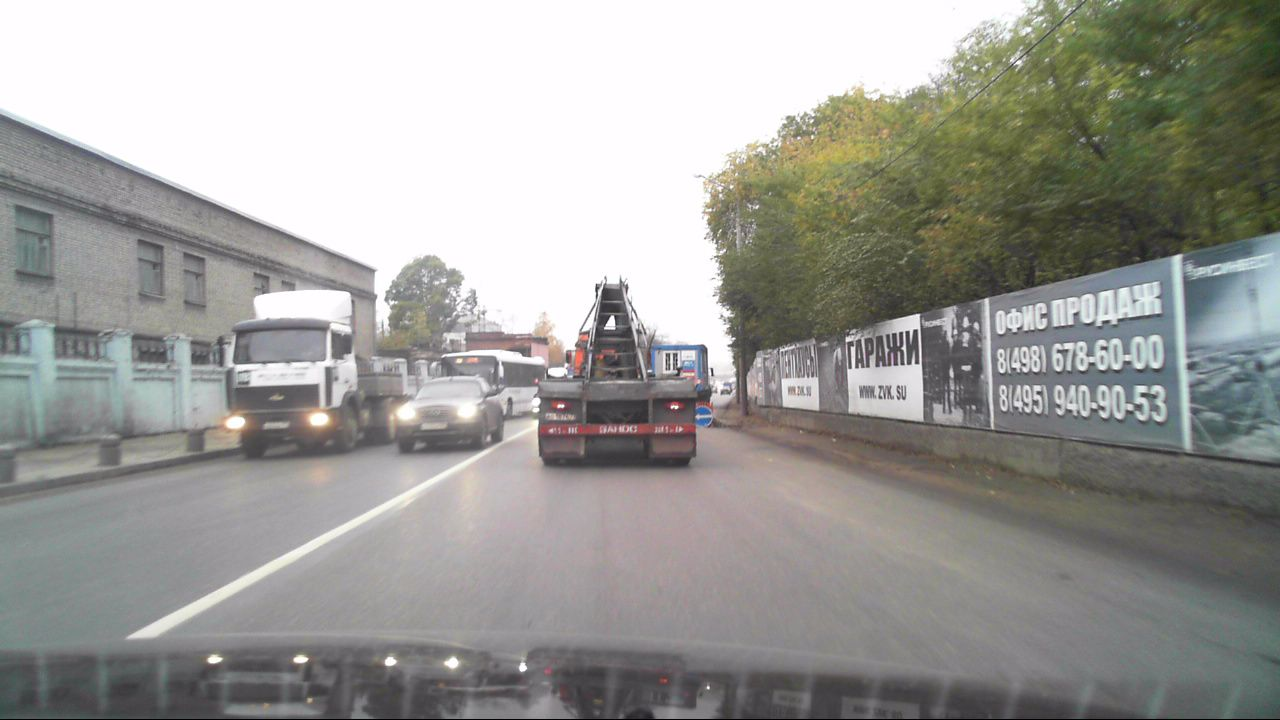Turn Left: (694, 407, 713, 427)
